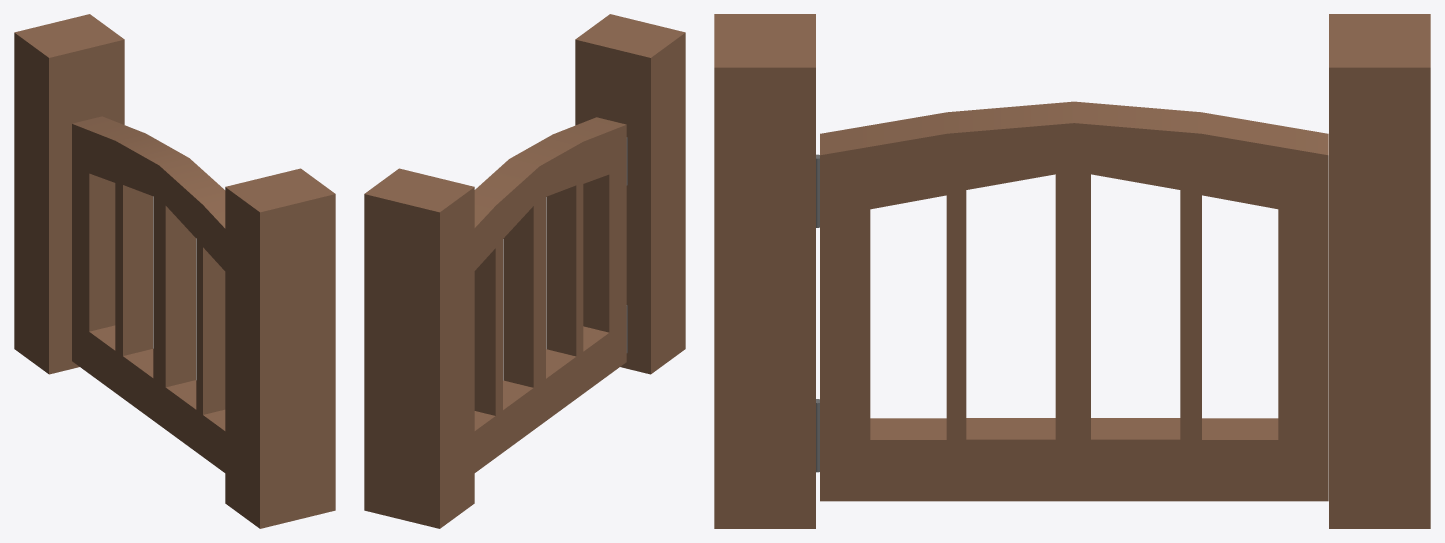
Rendered from Gate Basic.fbx.
The picture shows the model from 3 angles, left to right: view 1: azimuth 30°, elevation 25°; view 2: azimuth 150°, elevation 25°; view 3: azimuth 270°, elevation 25°; orthographic projection. The views are drawn at different scales.
Visible parts, largest first — view 1: obj_gateDoor, obj_postL, obj_postR; view 2: obj_gateDoor, obj_postR, obj_postL; view 3: obj_gateDoor, obj_postL, obj_postR.
Part boxes in pixels (<box>): obj_gateDoor: <box>72,116,225,472</box>; obj_postL: <box>225,168,335,528</box>; obj_postR: <box>14,14,124,374</box>; obj_gateDoor: <box>474,117,626,472</box>; obj_postR: <box>364,168,474,528</box>; obj_postL: <box>575,14,685,374</box>; obj_gateDoor: <box>820,101,1328,501</box>; obj_postL: <box>714,14,815,528</box>; obj_postR: <box>1329,14,1430,528</box>.
Size of the model in its own units: 2.5 by 10 by 14.08.
